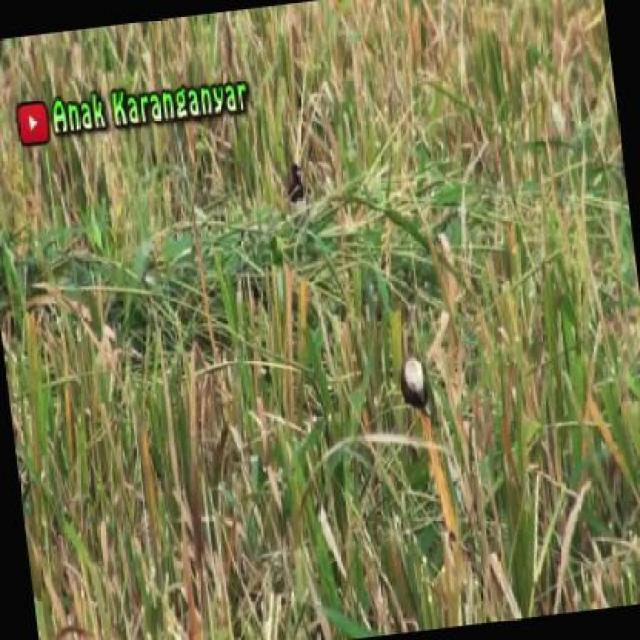Bird: (394, 349, 446, 426), (281, 158, 309, 203)
